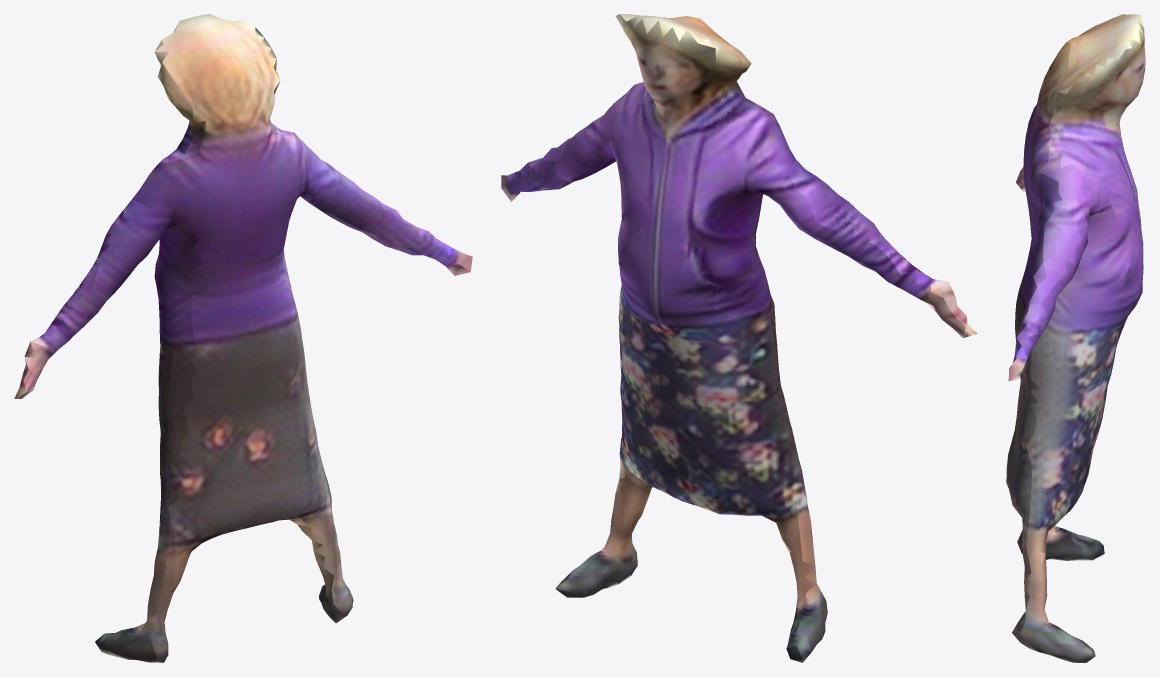
3 views of the same model, side by side, from view 1: azimuth 30°, elevation 25°; view 2: azimuth 150°, elevation 25°; view 3: azimuth 270°, elevation 25° (orthographic). The views are drawn at different scales.
Visible parts, largest first — view 1: world; view 2: world; view 3: world.
Part boxes in pixels (<box>): world: <box>14,14,472,662</box>; world: <box>501,14,977,662</box>; world: <box>1006,14,1145,662</box>.
Bounding box in the file's own units: 0.8065 × 1.01 × 0.2154.
1 material, 1 textured.
